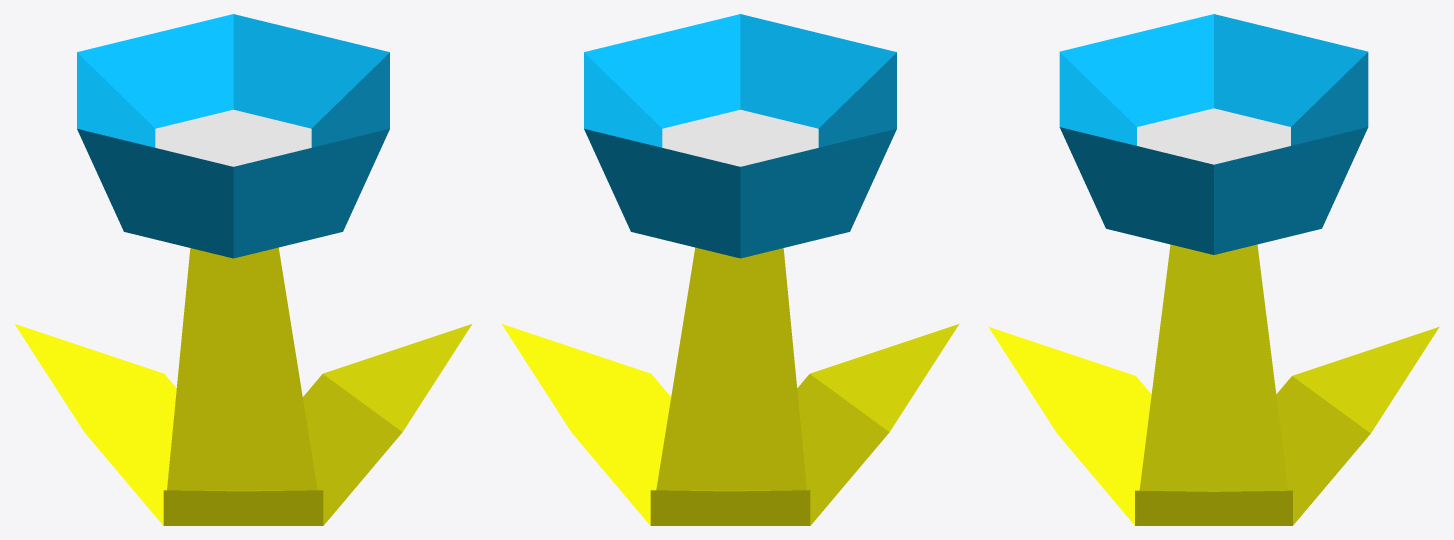
Rendered from R3_flower_10.fbx.
3 views of the same model, side by side, from view 1: azimuth 30°, elevation 25°; view 2: azimuth 150°, elevation 25°; view 3: azimuth 270°, elevation 25° (orthographic).
Parts seen in each view (by area): view 1: flower_purpleC1; view 2: flower_purpleC1; view 3: flower_purpleC1.
Boxes of the visible parts, bbox=[...] form: flower_purpleC1: bbox=[15, 14, 471, 525]; flower_purpleC1: bbox=[502, 14, 958, 525]; flower_purpleC1: bbox=[988, 14, 1439, 525].
Bounding box in the file's own units: 1.81 × 1.83 × 1.81.
